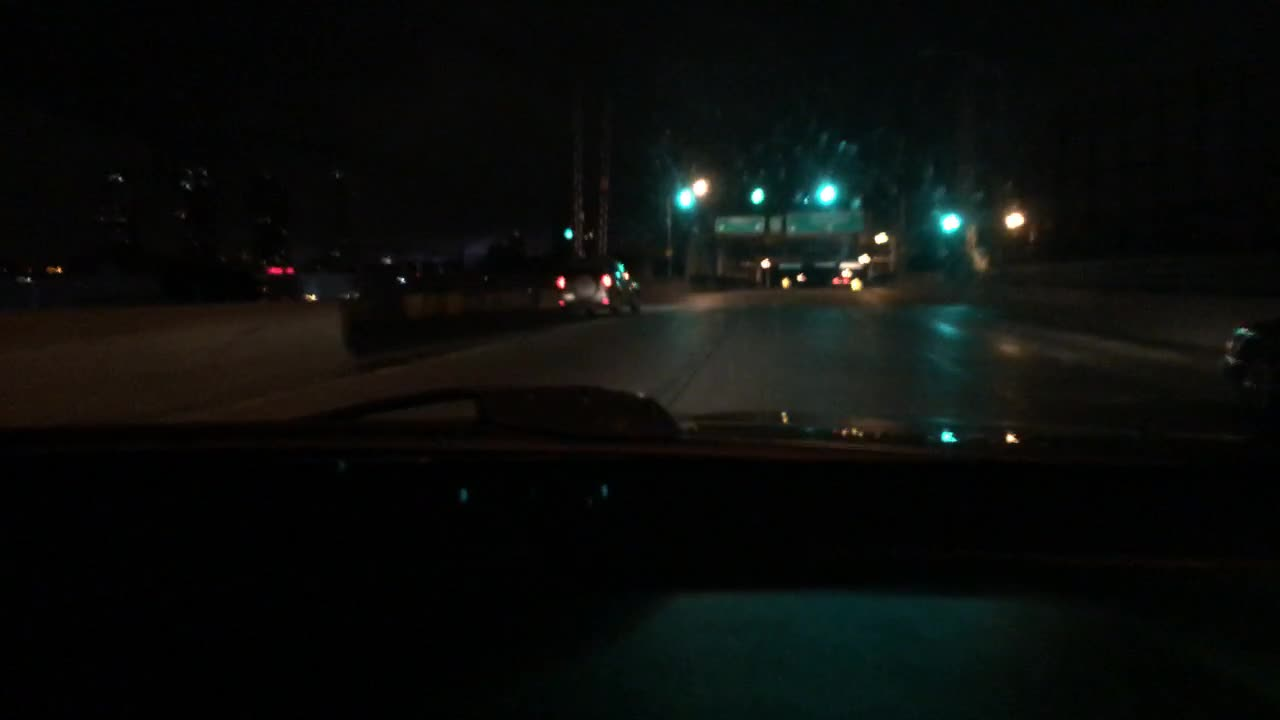car: (336, 248, 434, 356), (555, 256, 642, 322), (1219, 321, 1277, 394), (242, 259, 297, 302), (827, 272, 851, 291)
traffic light: (812, 173, 837, 207), (935, 209, 961, 237), (672, 188, 697, 215), (745, 185, 767, 207), (558, 224, 578, 242)
traffic sign: (785, 208, 862, 236), (711, 214, 763, 237), (807, 258, 840, 272), (773, 260, 801, 273), (767, 215, 783, 237)
